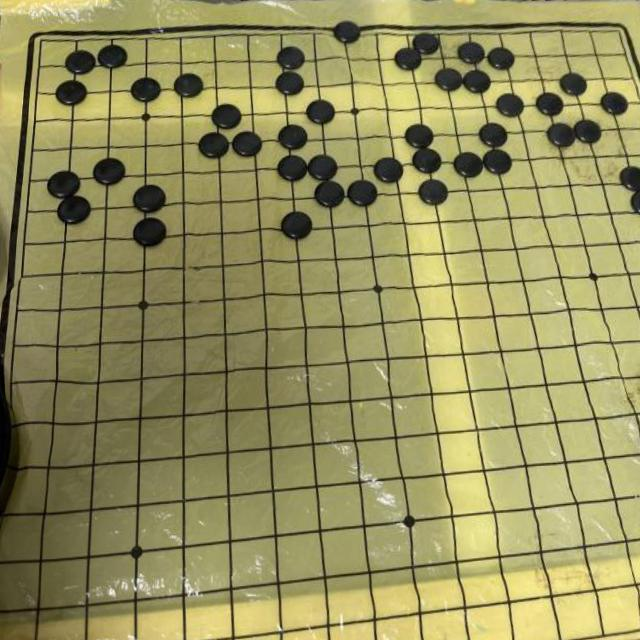blackstone: (133, 217, 167, 247), (281, 210, 313, 240), (58, 196, 91, 225), (133, 184, 166, 213), (93, 157, 125, 185), (48, 170, 80, 198), (278, 154, 308, 182), (315, 180, 344, 208), (418, 179, 448, 206), (308, 154, 338, 181), (56, 80, 87, 106), (348, 180, 377, 207), (453, 152, 483, 178), (482, 149, 512, 175), (198, 132, 228, 158), (232, 131, 262, 157), (131, 77, 161, 103), (211, 103, 241, 129), (278, 124, 308, 150), (373, 157, 402, 183), (412, 148, 441, 174), (174, 73, 204, 98), (65, 50, 96, 74), (546, 122, 574, 148), (404, 124, 434, 148), (98, 44, 128, 68), (462, 69, 490, 94), (478, 122, 506, 147), (306, 100, 335, 124), (275, 72, 304, 96), (574, 119, 601, 144), (560, 72, 588, 96), (496, 93, 524, 117), (277, 46, 305, 70), (435, 68, 462, 92), (536, 92, 563, 116), (601, 92, 628, 115), (488, 47, 515, 70), (458, 41, 484, 64), (333, 21, 360, 43), (395, 48, 422, 70), (412, 33, 438, 55), (620, 165, 640, 191), (630, 190, 640, 213)
